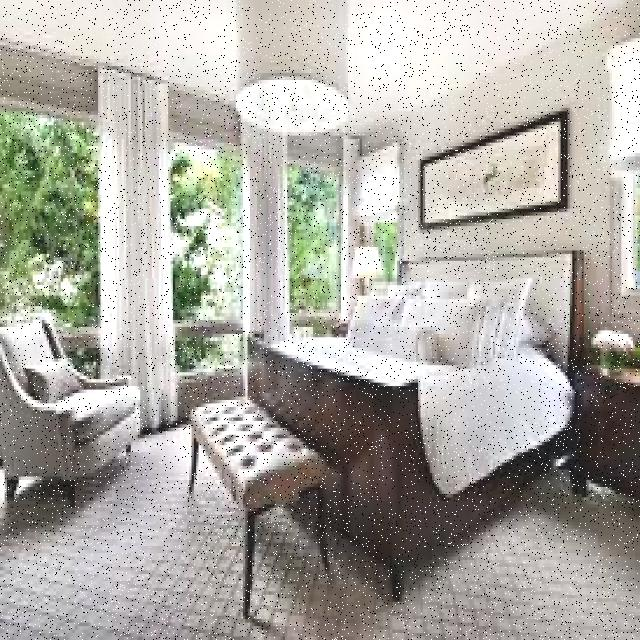bed: (260, 275, 575, 444)
